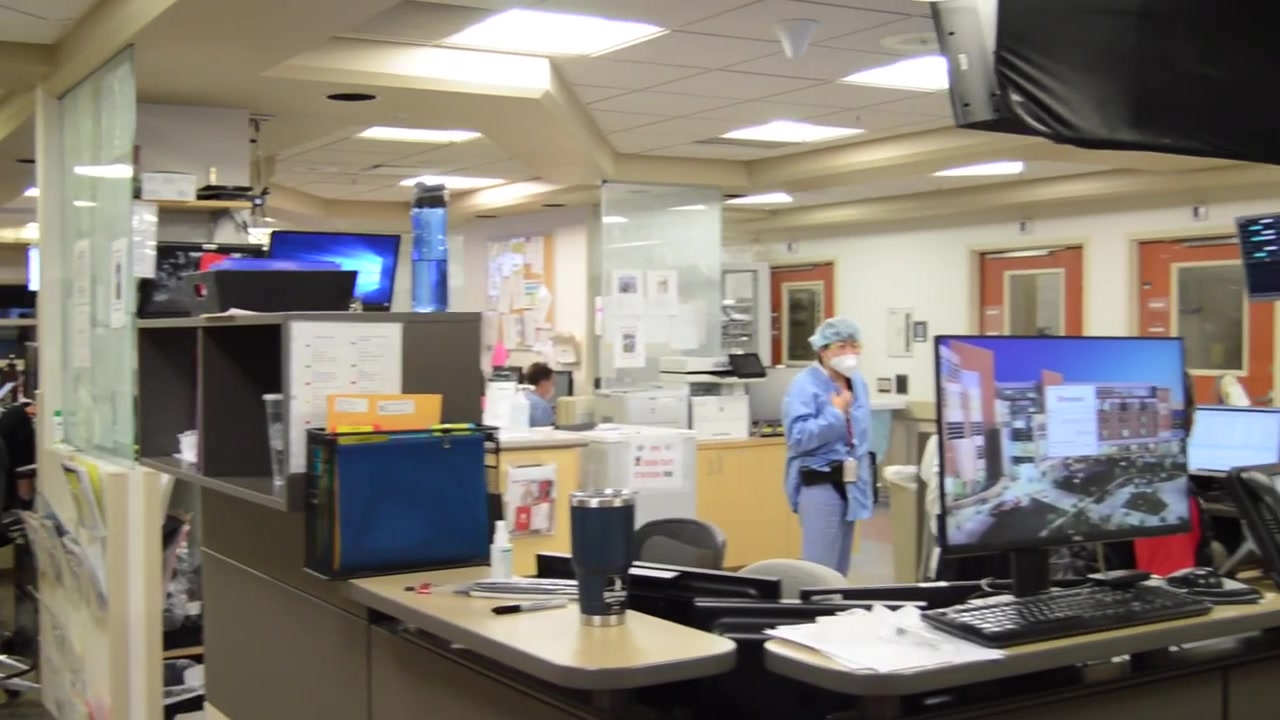TV: (262, 230, 403, 310), (1234, 213, 1280, 302)
computer: (932, 336, 1186, 577), (537, 554, 782, 637), (1184, 405, 1280, 477)
counter: (493, 426, 861, 556)
countertop: (762, 572, 1280, 697), (341, 563, 738, 691)
handle: (717, 451, 725, 472), (708, 452, 715, 475)
keyboard: (922, 582, 1213, 645)
mouse: (1166, 569, 1224, 592)
staff: (782, 317, 875, 578), (1230, 465, 1280, 570), (516, 361, 557, 430)
waste_bin: (881, 463, 920, 581)
